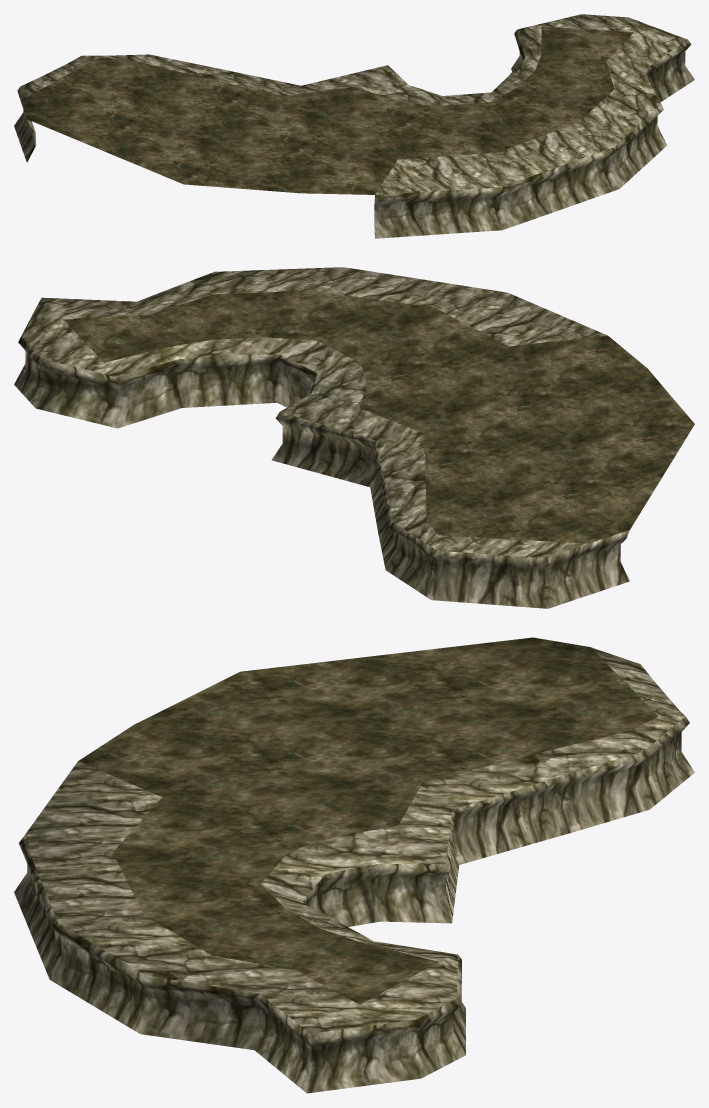
Rendered from CB_NEWPLAYSURFACE_CB_PLAYSURFACE148.fbx.
3 views of the same model, one above another, from view 1: azimuth 30°, elevation 25°; view 2: azimuth 150°, elevation 25°; view 3: azimuth 270°, elevation 25° (orthographic). The views are drawn at different scales.
Visible parts, largest first — view 1: CB_NEWPLAYSURFACE_CB_PLAYSURFACE148; view 2: CB_NEWPLAYSURFACE_CB_PLAYSURFACE148; view 3: CB_NEWPLAYSURFACE_CB_PLAYSURFACE148.
Boxes of the visible parts, x1,y1,x2,y2 form: CB_NEWPLAYSURFACE_CB_PLAYSURFACE148: [14, 14, 694, 238]; CB_NEWPLAYSURFACE_CB_PLAYSURFACE148: [14, 267, 694, 608]; CB_NEWPLAYSURFACE_CB_PLAYSURFACE148: [14, 637, 694, 1093].
Size of the model in its own units: 420171 by 30000 by 305773.
Materials: 3 (3 with a texture image).
